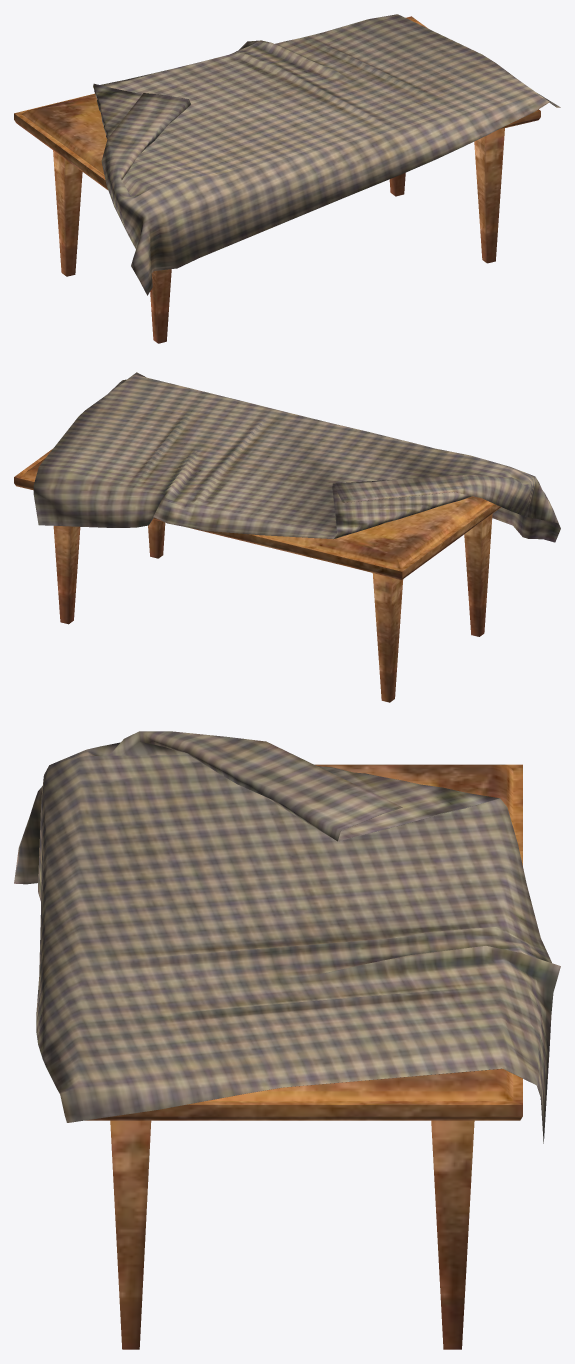
The model's file is dining_table.glb.
The picture shows the model from 3 angles, top to bottom: view 1: azimuth 30°, elevation 25°; view 2: azimuth 150°, elevation 25°; view 3: azimuth 270°, elevation 25°; orthographic projection. The views are drawn at different scales.
Parts seen in each view (by area): view 1: dining_table; view 2: dining_table; view 3: dining_table.
Boxes of the visible parts, bbox=[...] form: dining_table: bbox=[14, 14, 560, 343]; dining_table: bbox=[14, 372, 560, 702]; dining_table: bbox=[14, 731, 560, 1349].
Bounding box in the file's own units: 2.26 × 0.8769 × 1.39.
Materials: 1 (1 with a texture image).
